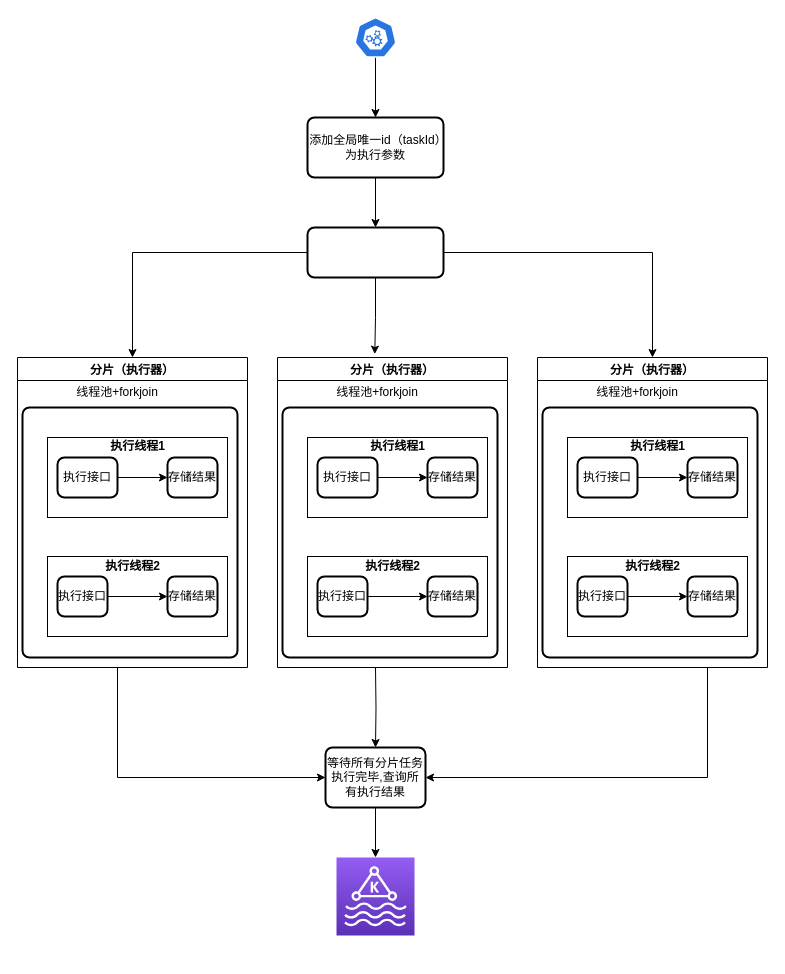
Image size: 785x974. Some labels were removed from this diagram. The centre of each missing label's shape, as x and y in pixels:
"kafka" belongs at pixel 375 896.
"XXL-JOB-ADMIN" belongs at pixel 375 37.
"分片式任务触发" belongs at pixel 375 252.
